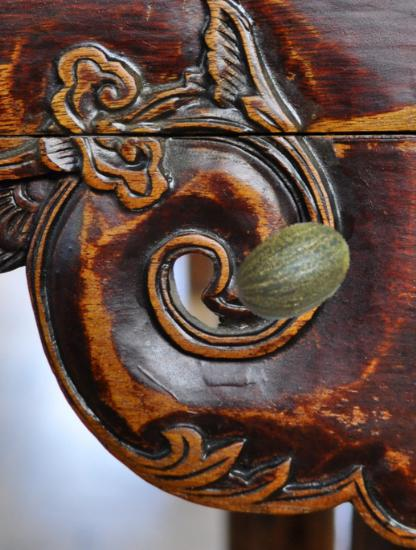Melon: (232, 210, 353, 331)
